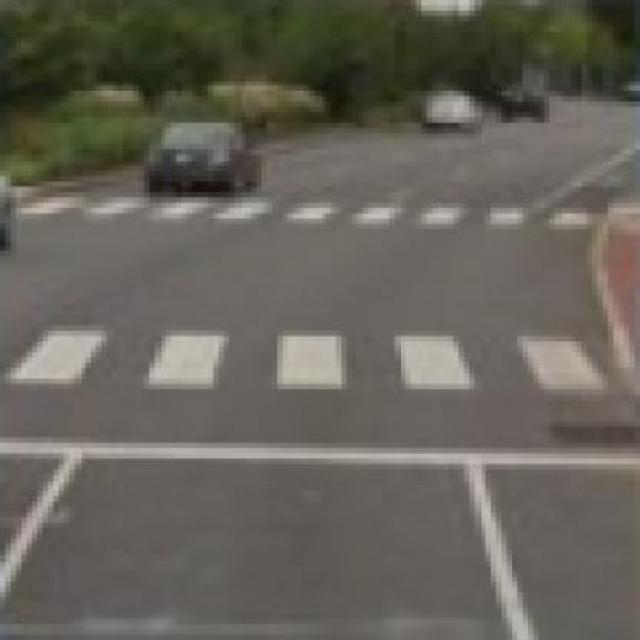crosswalk: (9, 330, 616, 394), (21, 195, 597, 228)
